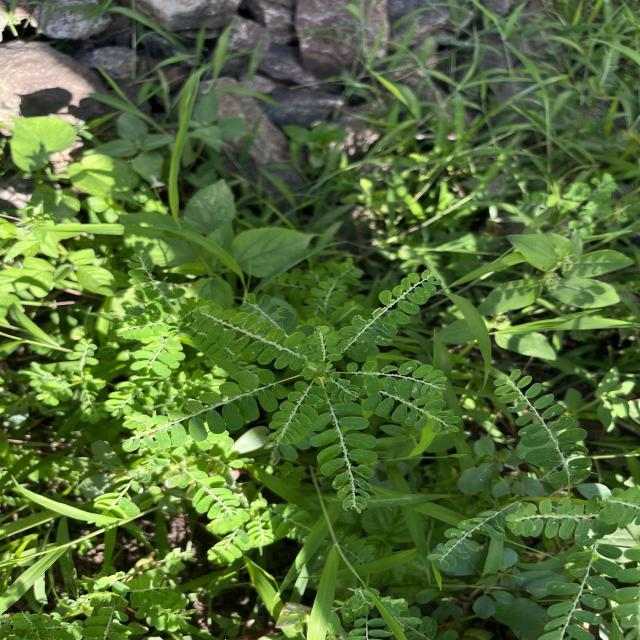Phyllanthus niruri: (122, 368, 288, 454), (491, 367, 595, 488), (335, 268, 444, 364), (541, 537, 624, 640), (190, 306, 315, 370), (310, 401, 378, 516), (504, 496, 602, 541), (351, 360, 449, 400), (268, 379, 326, 446), (307, 324, 344, 366)
